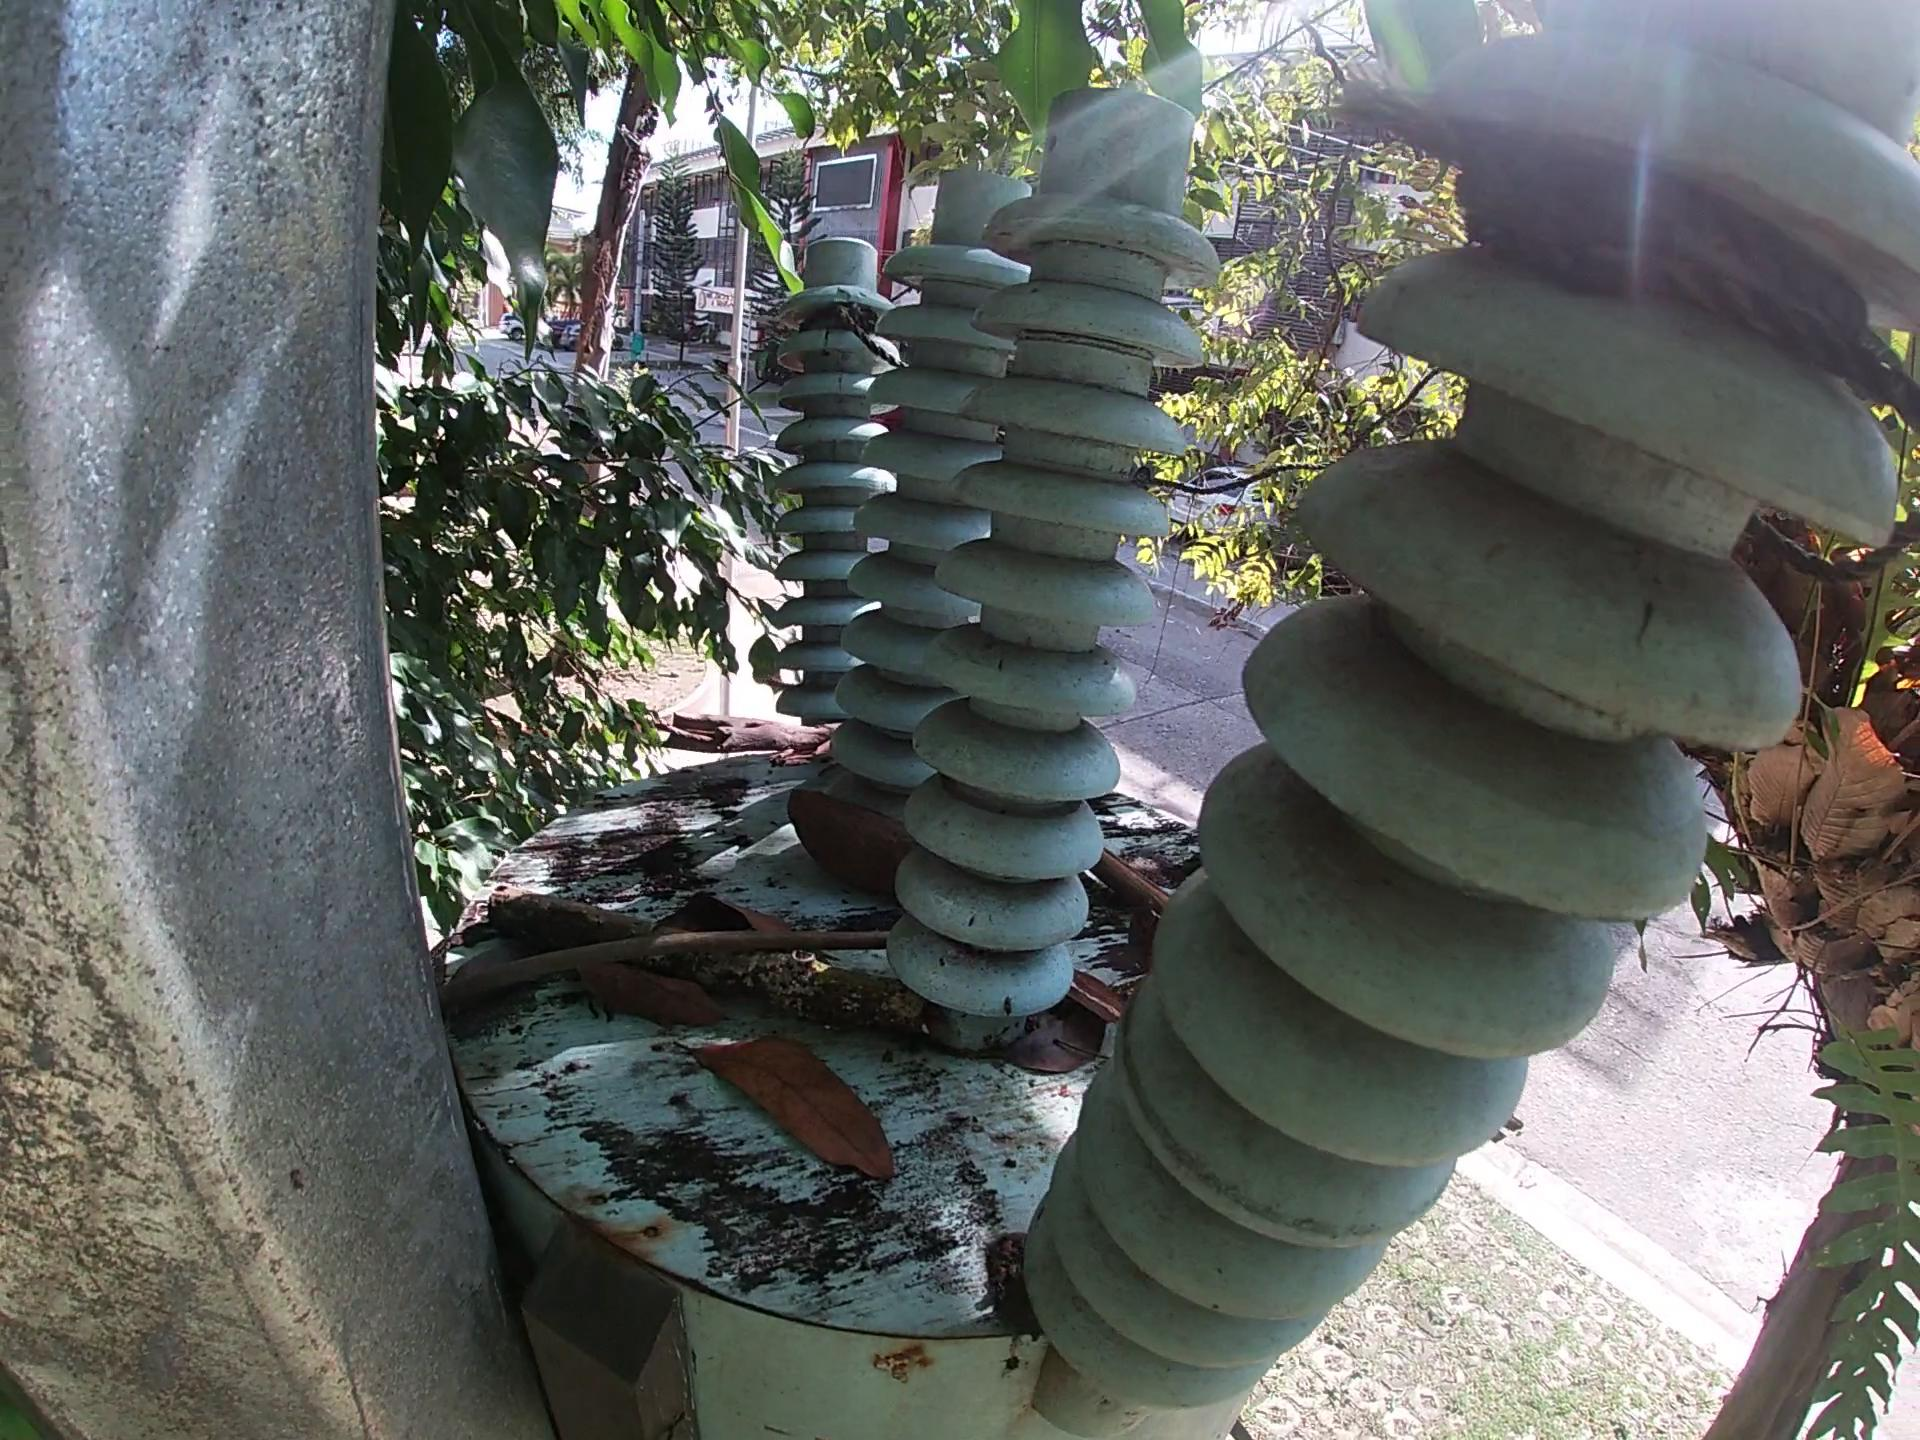leaf: (673, 1035, 900, 1184), (646, 889, 844, 964), (576, 957, 735, 1029), (978, 1007, 1107, 1075)
mahogany fruit: (783, 781, 918, 902), (1061, 967, 1132, 1021)
tree branch: (482, 880, 931, 1038), (435, 929, 900, 1016), (655, 712, 847, 761), (1092, 846, 1178, 920)
